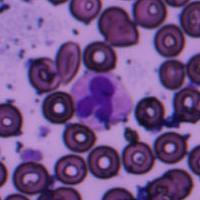N: (72, 70, 132, 127)
